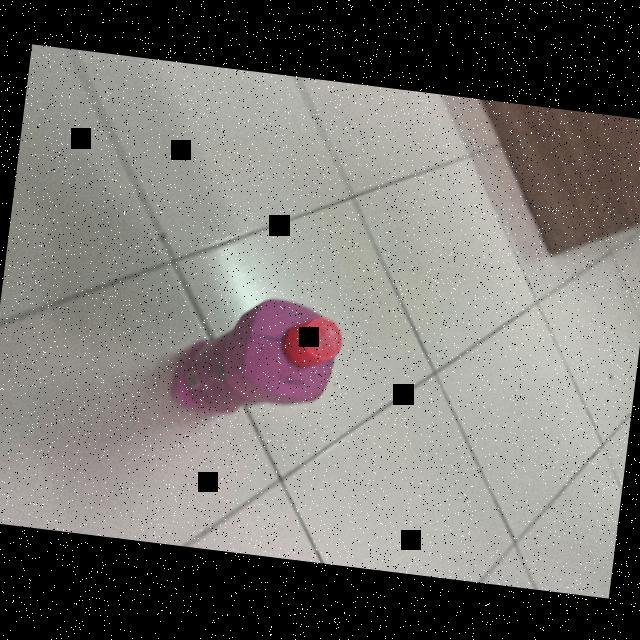chemical_plastic_bottle: (164, 280, 350, 434)
